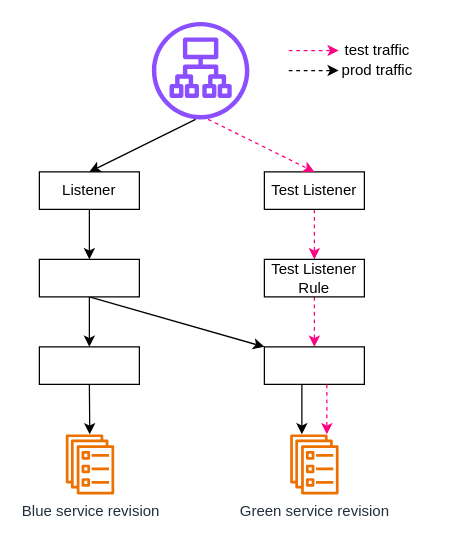
Image size: 449x541. Some labels were removed from this diagram. The shapes that lost their labels are listed below. From the top down, each one's box as (x1, y1, x2, y2) in pixels, then its label:
(38, 258, 139, 297): Listener Rule
(38, 346, 139, 384): Target Group Blue
(263, 346, 364, 384): Target Group Green
